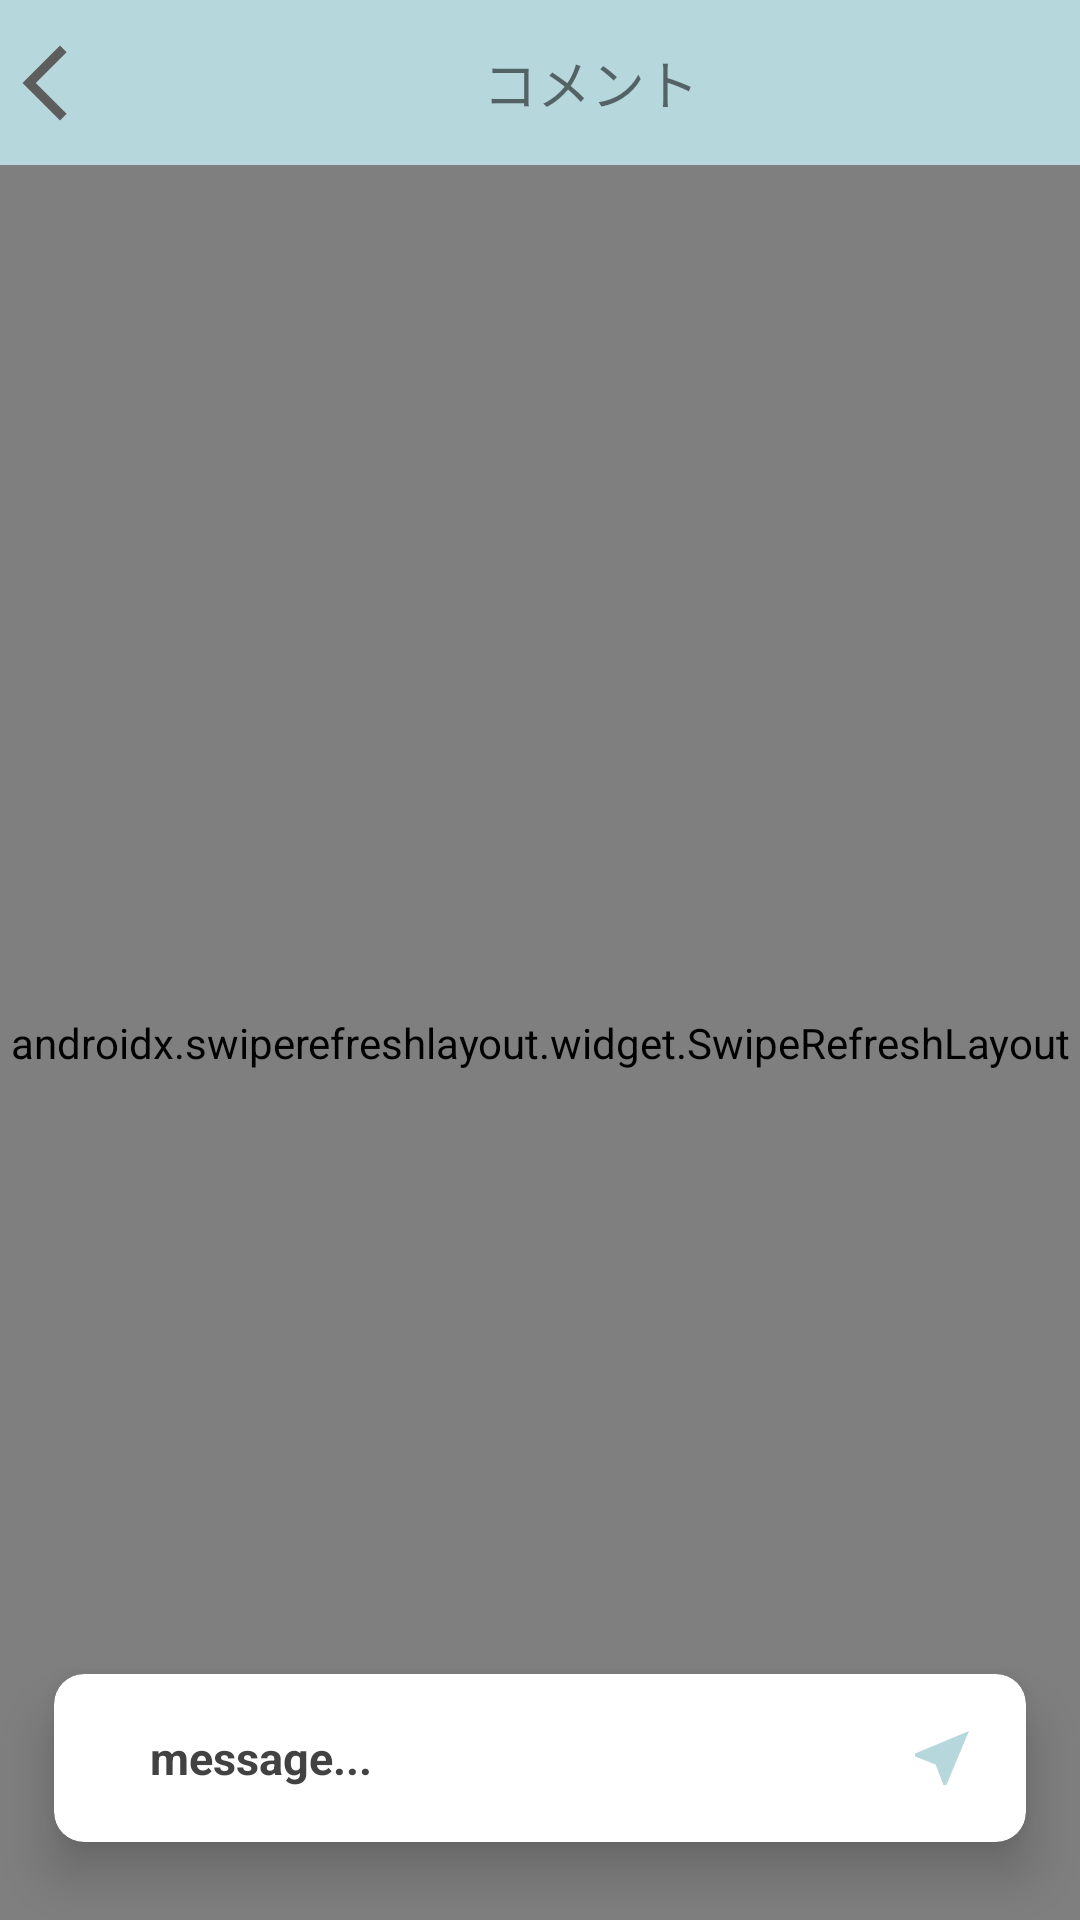

Locate icon controls on the screen. Image size 1080 × 1920, boxes as (x1, y1, x2, y2).
arrow back: (23, 46, 67, 120)
near me: (915, 1731, 969, 1785)
